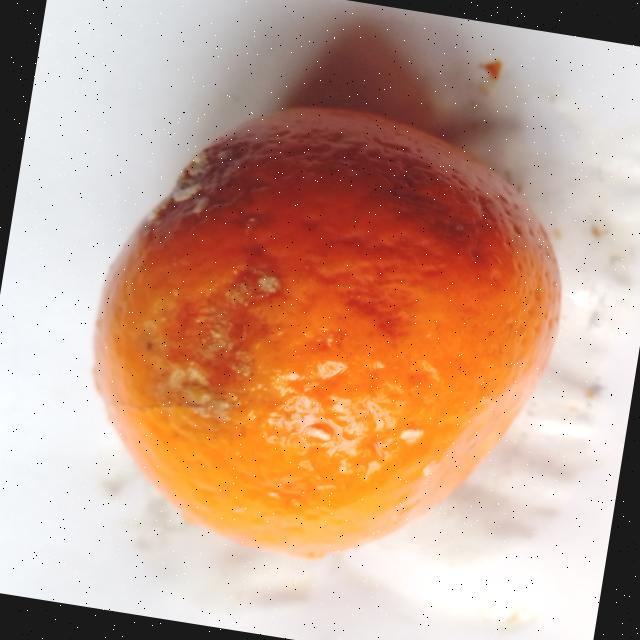Rotten: (60, 76, 588, 594)
